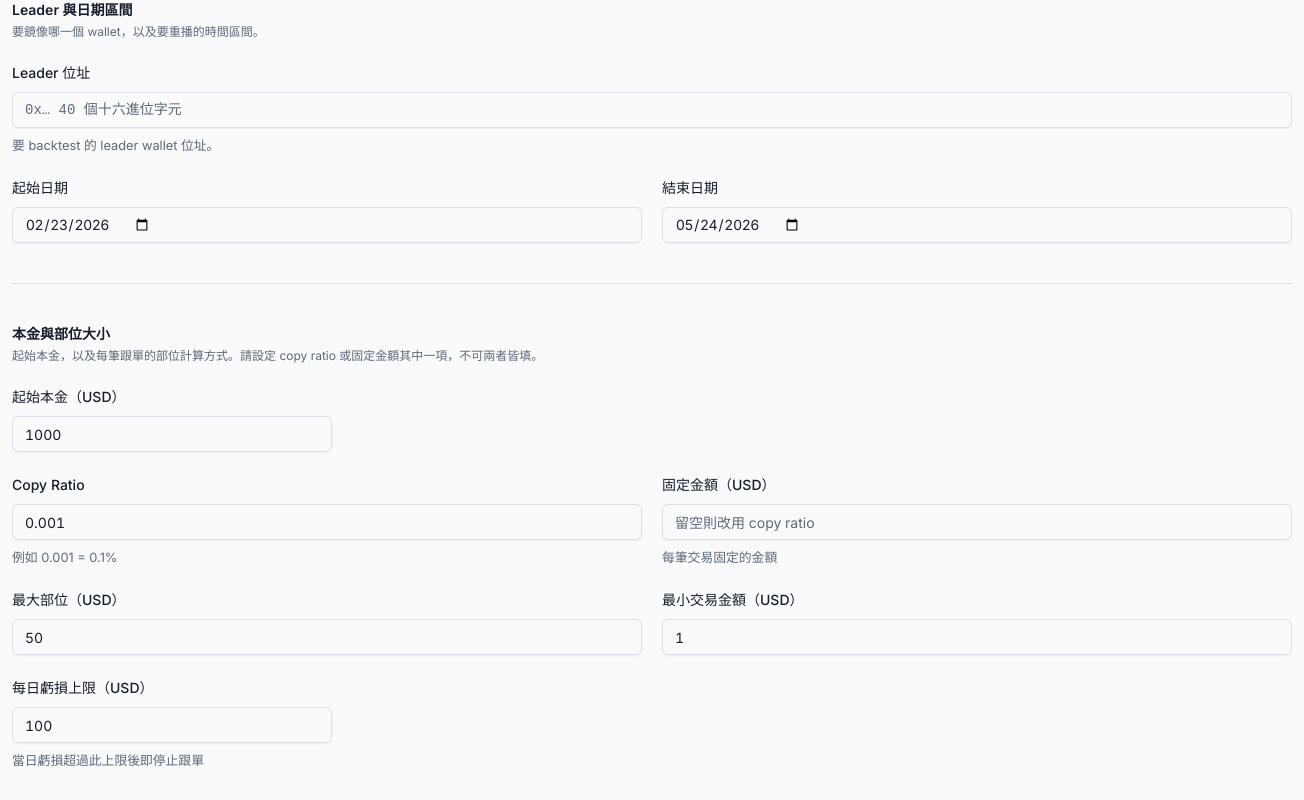
Test case: BacktestForm (zod validation + server action) › blocks submit and shows the min-length error for a too-short wallet
In the field labelled "Leader 位址": (652, 110) [12,92,1292,128], type "0xabc"
(page scrolled)
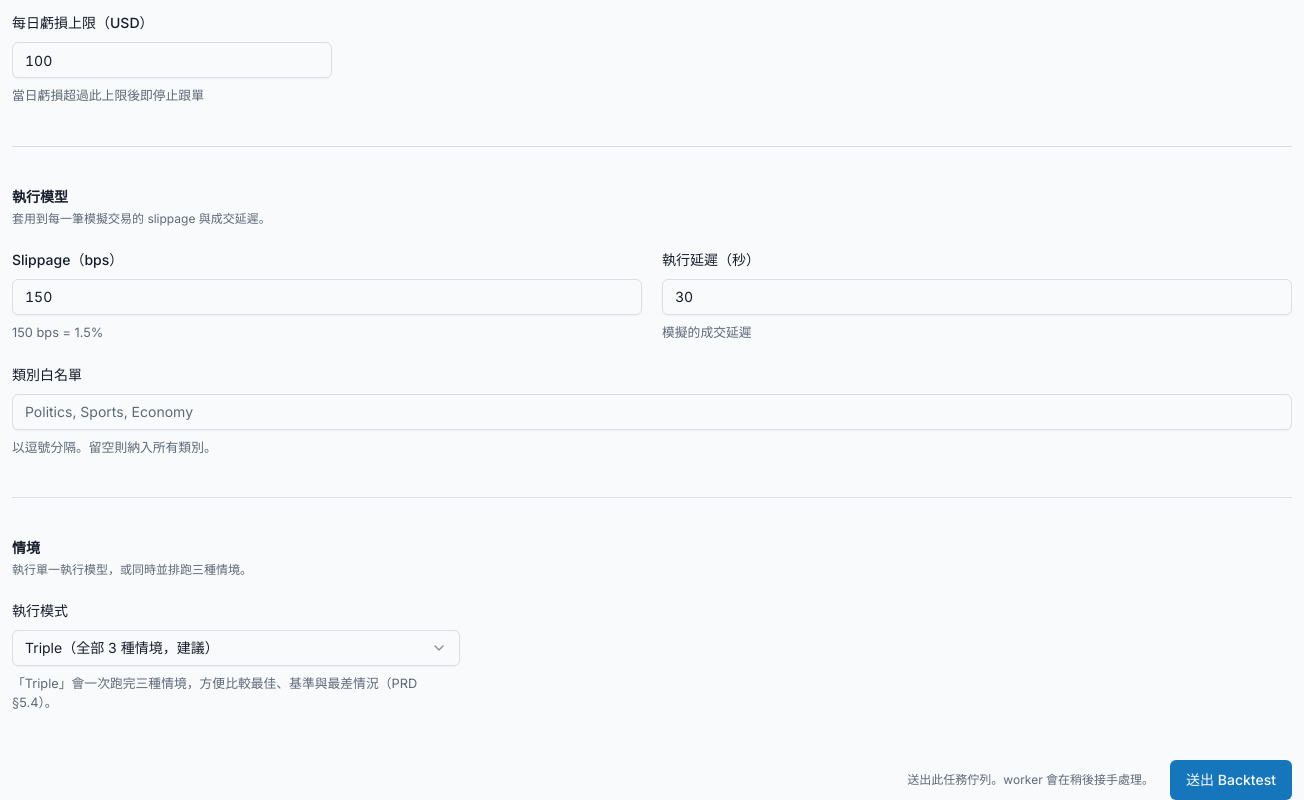
Click the button "送出 Backtest": (1231, 780) [1170,760,1292,799]
(page scrolled)
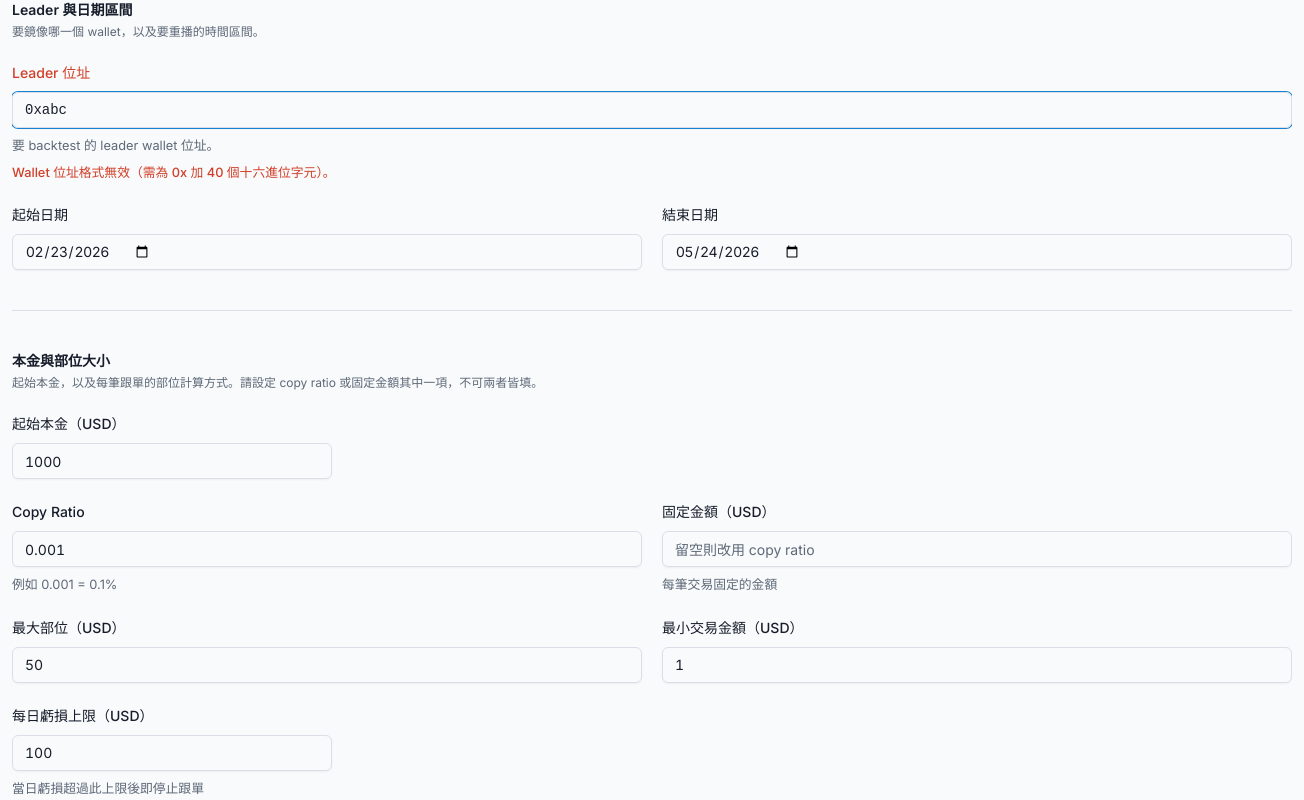
Check: the text "Wallet 位址格式無效（需為 0x 加 40 個十六進位字元）。" is shown, box [12,165,336,180]
